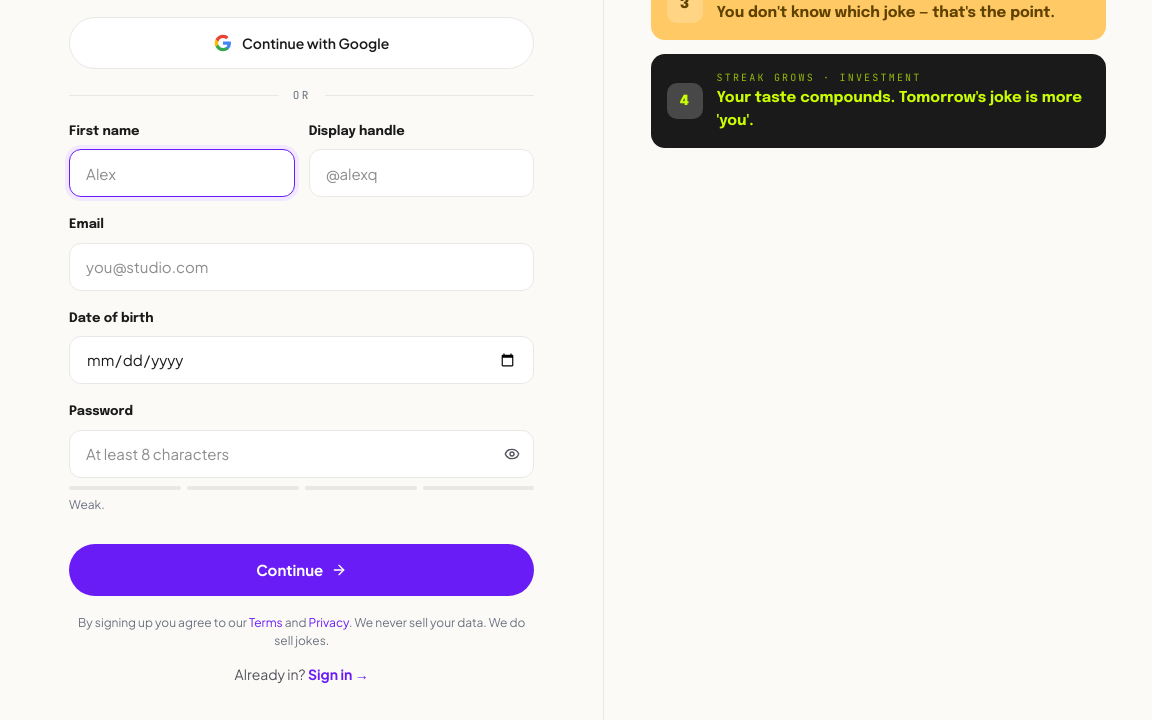
it: Continue with Google with an under-13 DOB shows the block message, no redirect
(page scrolled)
Type "2020-01-01" into the date field labelled "Date of birth". click: (302, 360)
box: x1=69 y1=336 x2=534 y2=384
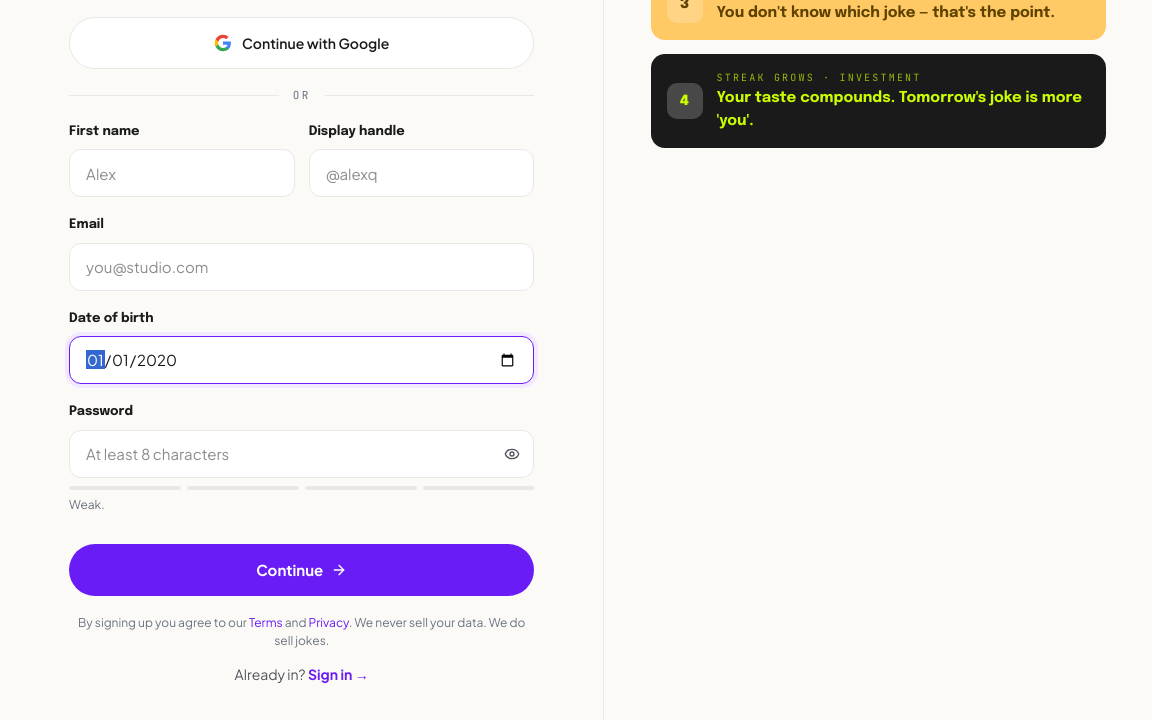
Click the button "Continue with Google". click: (302, 43)
box: x1=69 y1=17 x2=534 y2=69
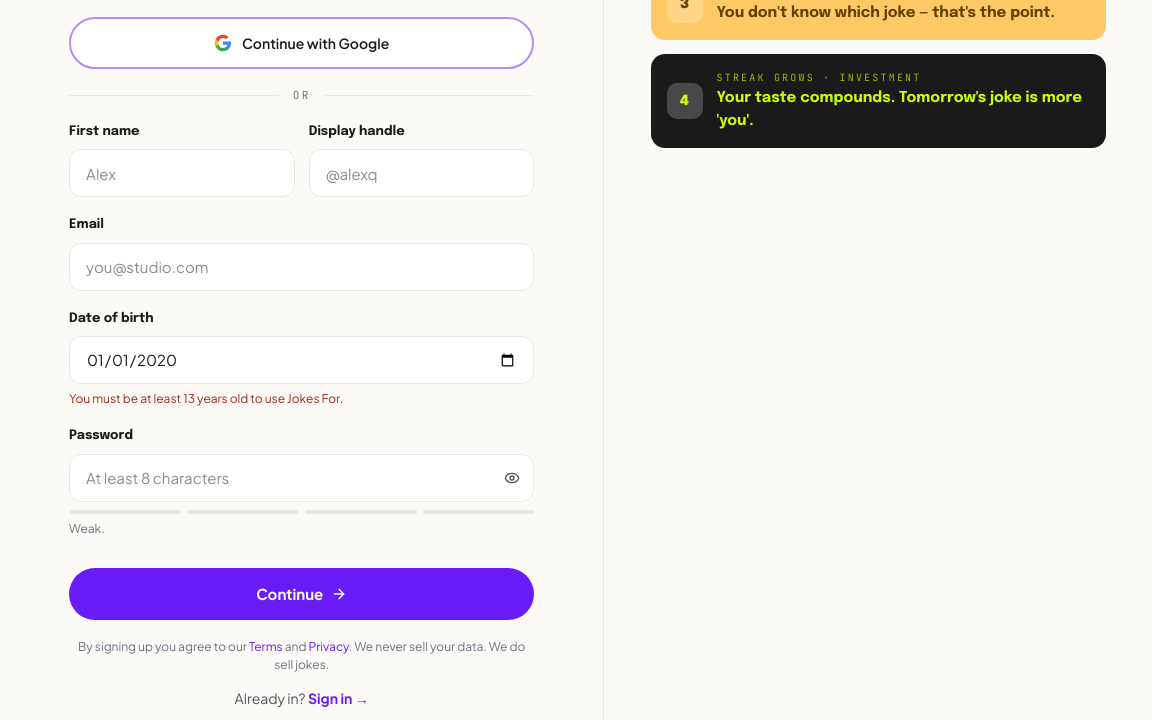
Now the text "You must be at least 13 years old to use Jokes For." is shown, box x1=69 y1=391 x2=343 y2=406
